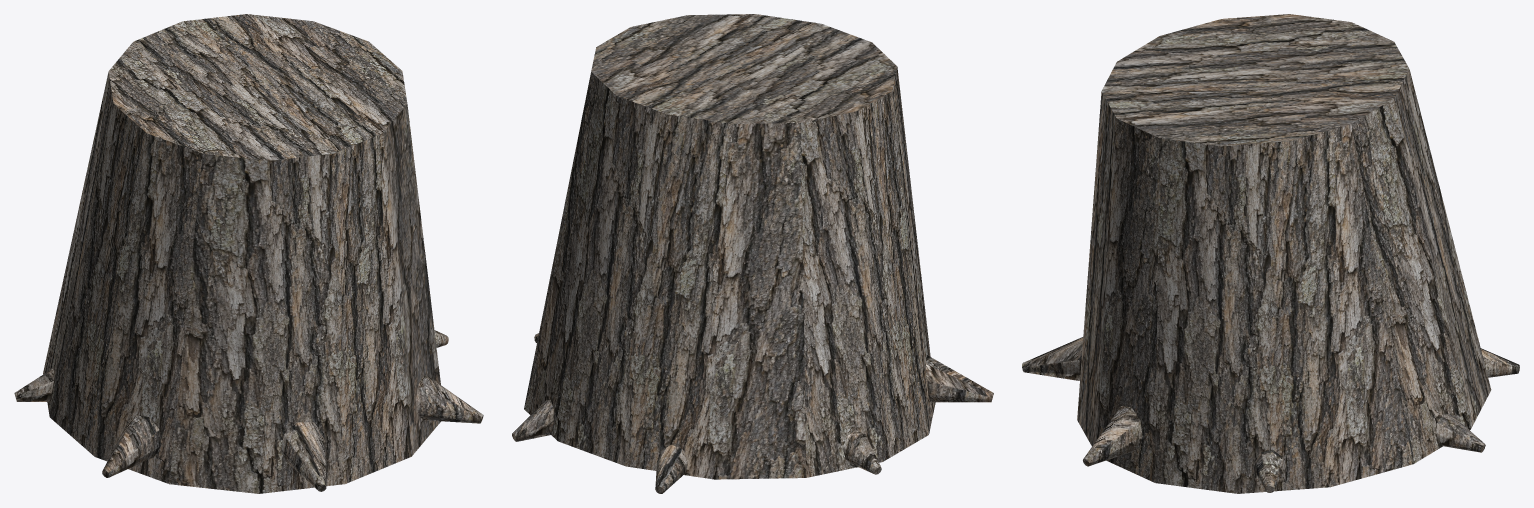
The model's file is broken-stump-v01.glb.
3 views of the same model, side by side, from view 1: azimuth 30°, elevation 25°; view 2: azimuth 150°, elevation 25°; view 3: azimuth 270°, elevation 25° (orthographic). The views are drawn at different scales.
Parts seen in each view (by area): view 1: broken-stump; view 2: broken-stump; view 3: broken-stump.
Boxes of the visible parts, x1,y1,x2,y2 form: broken-stump: [14, 14, 483, 493]; broken-stump: [512, 14, 993, 493]; broken-stump: [1022, 14, 1519, 493].
Size of the model in its own units: 1.75 by 1.45 by 1.87.
1 material, 1 textured.
